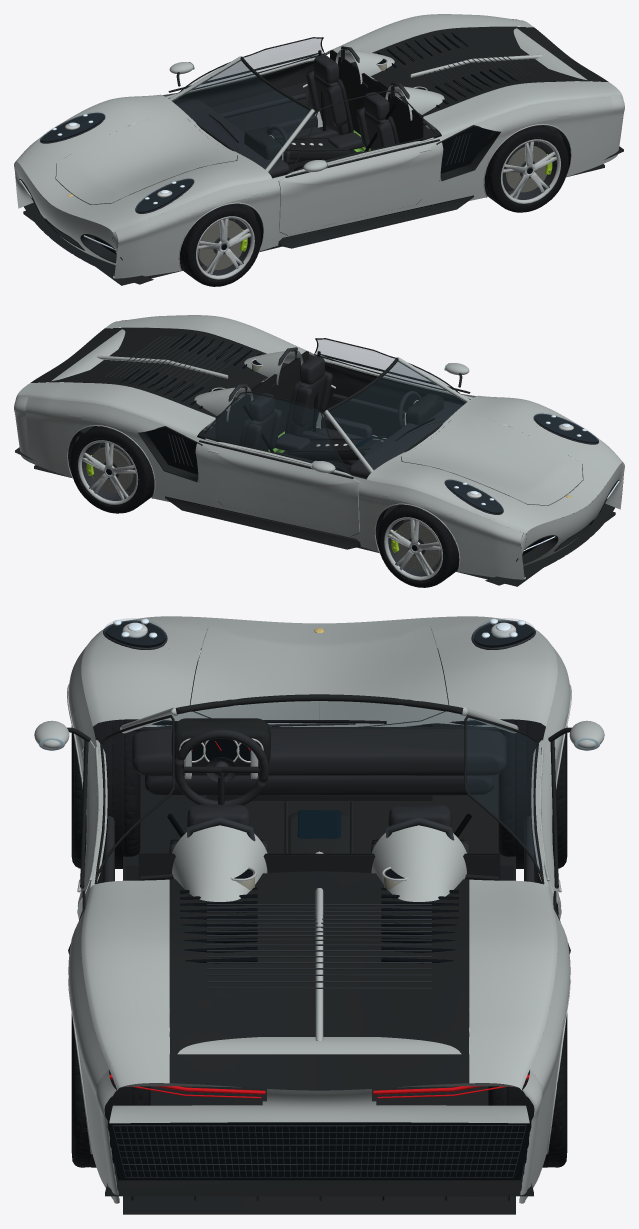
File: preview.glb
The picture shows the model from 3 angles, top to bottom: view 1: azimuth 30°, elevation 25°; view 2: azimuth 150°, elevation 25°; view 3: azimuth 270°, elevation 25°; orthographic projection. The views are drawn at different scales.
Visible parts, largest first — view 1: paint_0, carbon_0, paint_1, leather_0, glass_0, rubber_0, black_0, dark_metal_0, alloy_0, brake_0, lamp_lens_0, tire_detail_0; view 2: paint_0, carbon_0, glass_0, paint_1, leather_0, rubber_0, black_0, dark_metal_0, alloy_0, brake_0, lamp_lens_0, tire_detail_0; view 3: carbon_0, paint_0, paint_1, black_0, dark_metal_0, leather_0, rubber_0, glass_0, interior_0, lamp_lens_0, tail_0, screen_0.
Part boxes in pixels (x1,y1,x2,y2): paint_0: [15, 14, 621, 278]; carbon_0: [18, 26, 623, 285]; paint_1: [14, 19, 624, 253]; leather_0: [176, 55, 395, 177]; glass_0: [172, 38, 323, 168]; rubber_0: [55, 34, 570, 286]; black_0: [41, 32, 565, 253]; dark_metal_0: [40, 35, 556, 275]; alloy_0: [196, 58, 560, 279]; brake_0: [197, 146, 546, 269]; lamp_lens_0: [41, 112, 192, 210]; tire_detail_0: [189, 131, 568, 285]; paint_0: [17, 315, 623, 579]; carbon_0: [15, 327, 620, 586]; glass_0: [203, 339, 466, 472]; paint_1: [14, 320, 624, 566]; leather_0: [243, 356, 462, 478]; rubber_0: [68, 361, 583, 587]; black_0: [73, 333, 597, 554]; dark_metal_0: [82, 336, 598, 576]; alloy_0: [78, 359, 442, 580]; brake_0: [92, 447, 441, 570]; lamp_lens_0: [446, 413, 597, 511]; tire_detail_0: [70, 432, 449, 586]; carbon_0: [67, 648, 571, 1214]; paint_0: [34, 626, 604, 1199]; paint_1: [81, 616, 557, 1203]; black_0: [105, 622, 533, 1180]; dark_metal_0: [103, 620, 535, 1177]; leather_0: [103, 729, 538, 882]; rubber_0: [71, 636, 567, 1167]; glass_0: [140, 701, 541, 872]; interior_0: [145, 775, 493, 795]; lamp_lens_0: [105, 618, 533, 644]; tail_0: [109, 741, 529, 1098]; screen_0: [297, 810, 340, 838].
Size of the model in its own units: 4.64 by 1.15 by 2.21.
